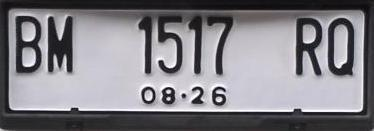1: (134, 14, 156, 78), (186, 13, 206, 77)
5: (156, 13, 186, 77)
7: (206, 14, 237, 76)
B: (12, 12, 46, 75)
M: (46, 13, 76, 75)
Q: (325, 14, 356, 78)
R: (292, 13, 326, 79)
